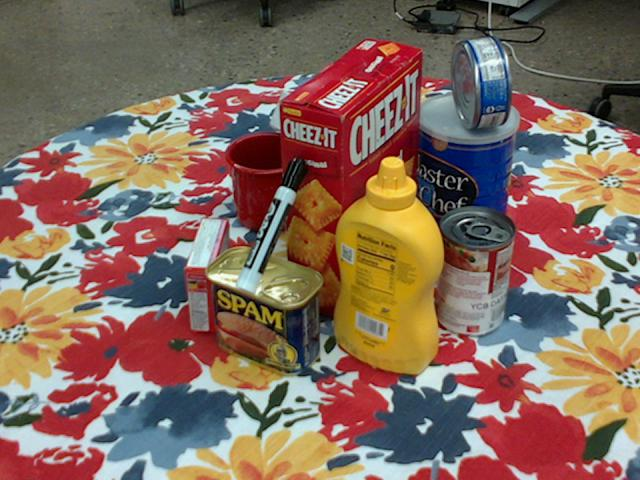cracker_box: (278, 38, 423, 320)
gelatin_box: (186, 216, 231, 331)
large_marker: (235, 156, 307, 292)
master_chef_can: (413, 92, 518, 257)
mug: (226, 132, 334, 233)
mustard_bottle: (334, 156, 445, 375)
potted_meat_can: (206, 246, 324, 376)
sugar_box: (271, 92, 431, 191)
tomato_soup_can: (434, 206, 515, 337)
tuna_fish_can: (450, 35, 512, 128)
